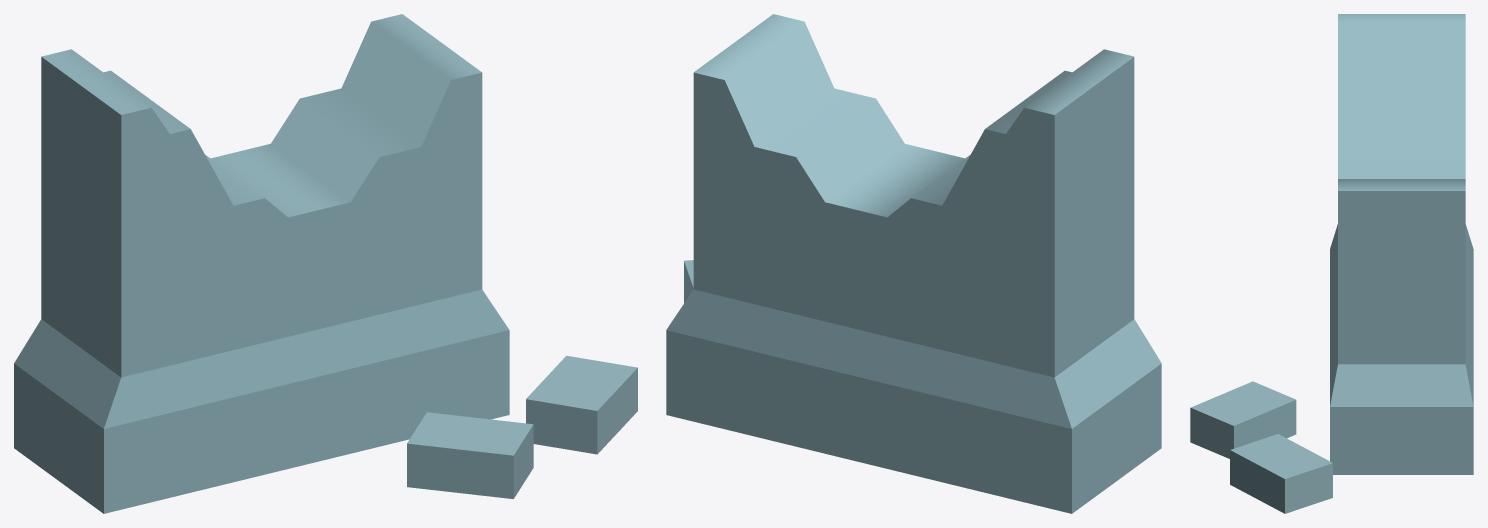
File: gravestoneBroken.fbx
3 renders of one model, left to right at view 1: azimuth 30°, elevation 25°; view 2: azimuth 150°, elevation 25°; view 3: azimuth 270°, elevation 25°, orthographic. The views are drawn at different scales.
Visible parts, largest first — view 1: gravestoneBroken; view 2: gravestoneBroken; view 3: gravestoneBroken.
Boxes of the visible parts, box(x1,y1,x2,y2) form: gravestoneBroken: box(14, 14, 637, 513); gravestoneBroken: box(666, 14, 1161, 513); gravestoneBroken: box(1190, 14, 1473, 513).
Size of the model in its own units: 4.86 by 3.58 by 2.95.
